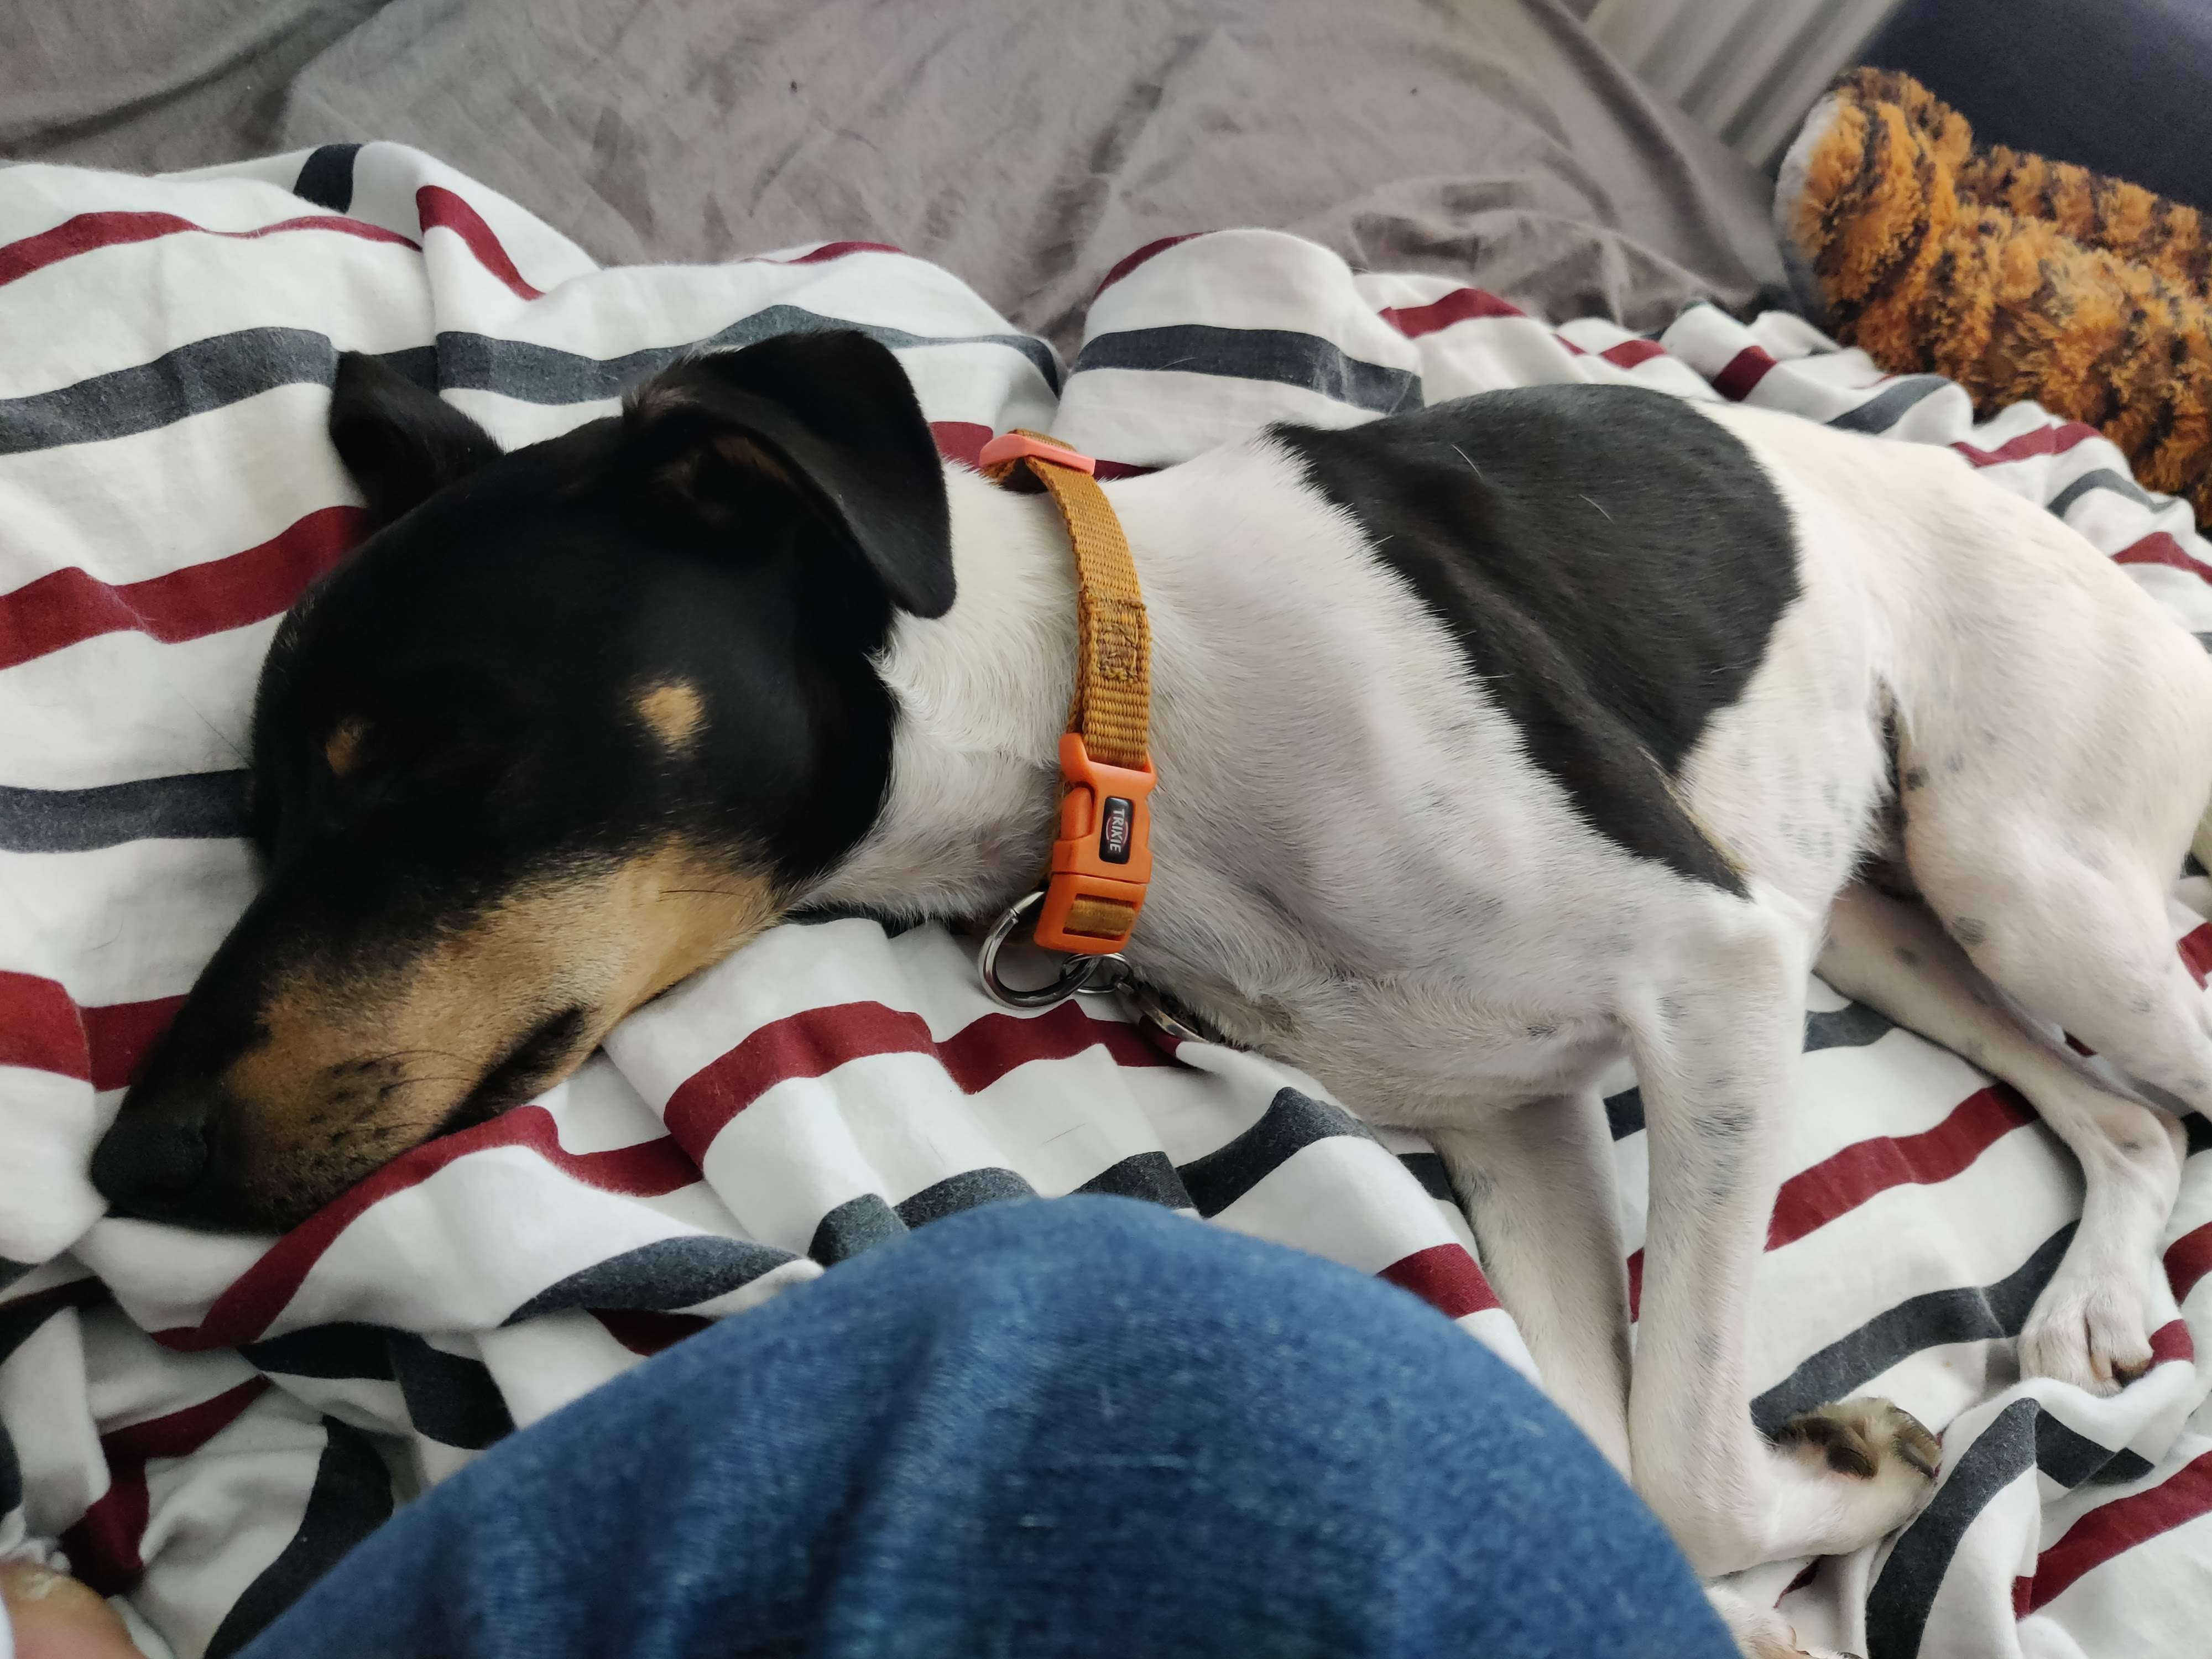Dog: (73, 295, 2212, 1659)
